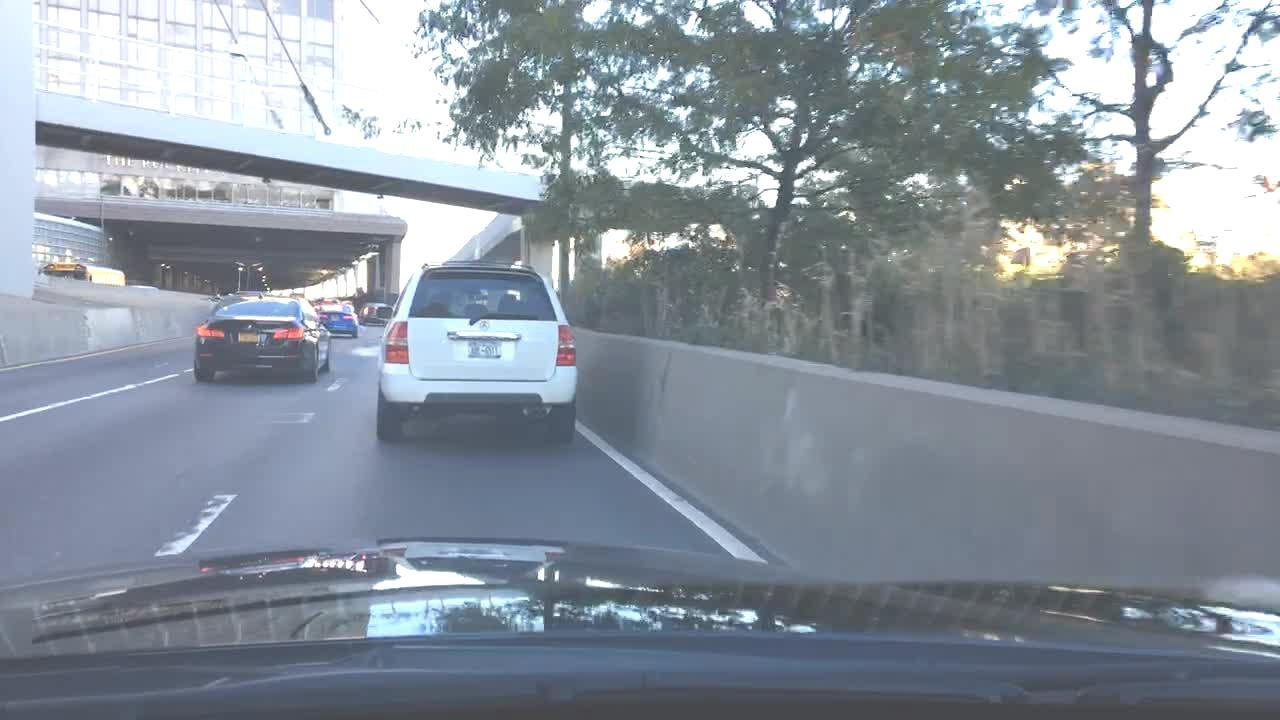Mercedes: (476, 317, 495, 335)
